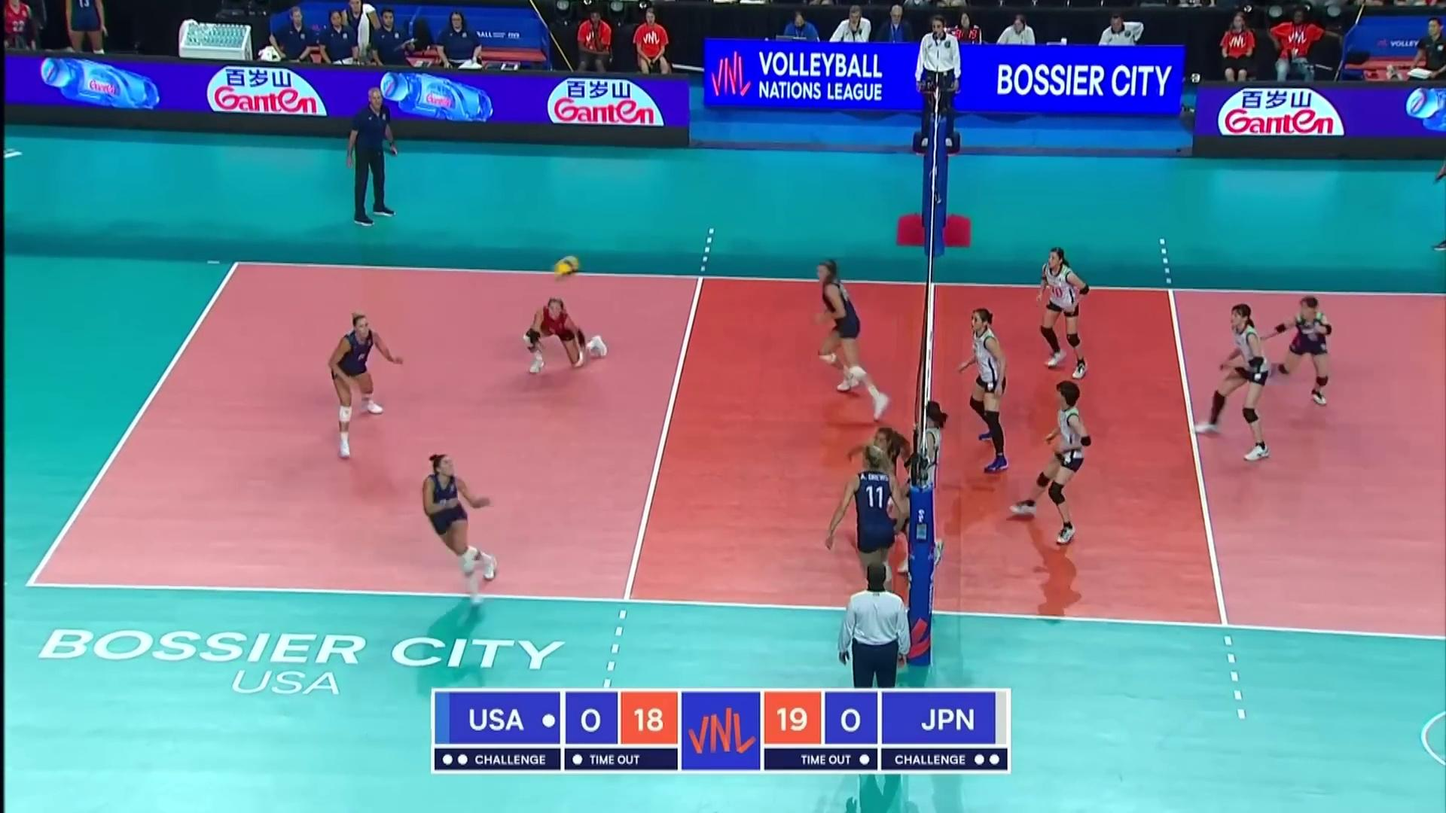player: (825, 443, 909, 660), (850, 428, 943, 573), (1012, 382, 1093, 545), (1198, 304, 1274, 465), (1224, 297, 1333, 407), (815, 259, 890, 418), (422, 453, 500, 601), (331, 312, 405, 456), (962, 309, 1011, 472), (1034, 248, 1091, 374), (523, 295, 605, 374)
refree: (840, 567, 912, 716), (914, 17, 962, 145)
